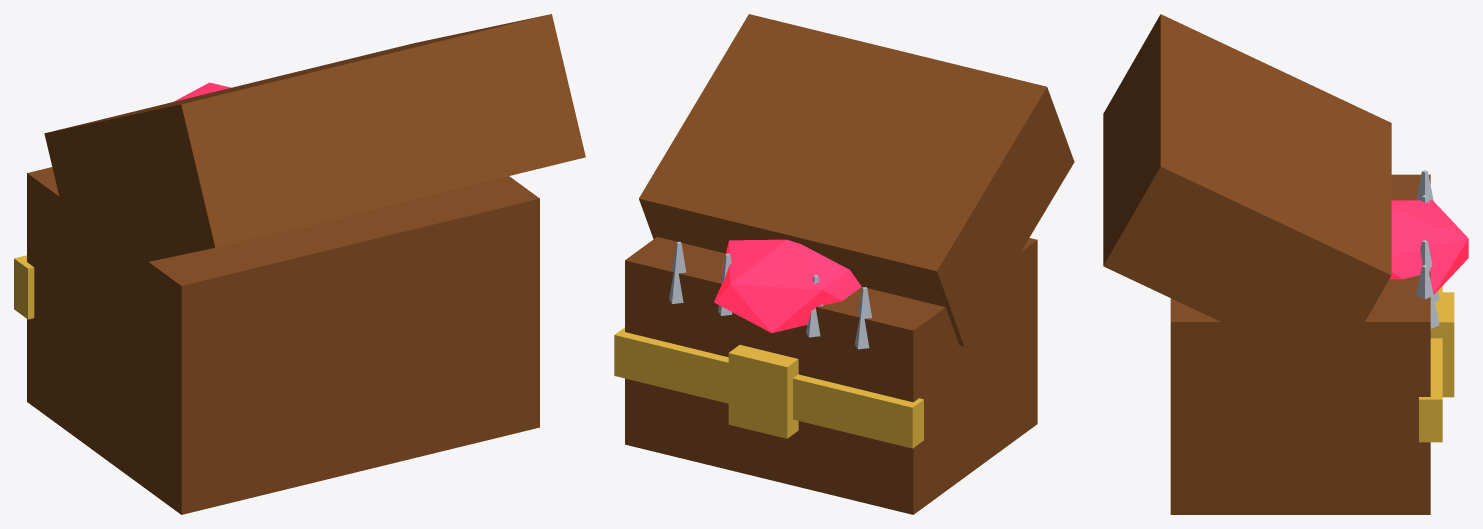
File: monster-mimic.glb
3 renders of one model, left to right at view 1: azimuth 30°, elevation 25°; view 2: azimuth 150°, elevation 25°; view 3: azimuth 270°, elevation 25°, orthographic. The views are drawn at different scales.
Visible parts, largest first — view 1: Mon_Mimic; view 2: Mon_Mimic; view 3: Mon_Mimic.
Part boxes in pixels (<box>): Mon_Mimic: <box>14,14,585,514</box>; Mon_Mimic: <box>614,14,1074,514</box>; Mon_Mimic: <box>1103,14,1468,514</box>.
Size of the model in its own units: 1.22 by 1.31 by 1.24.
